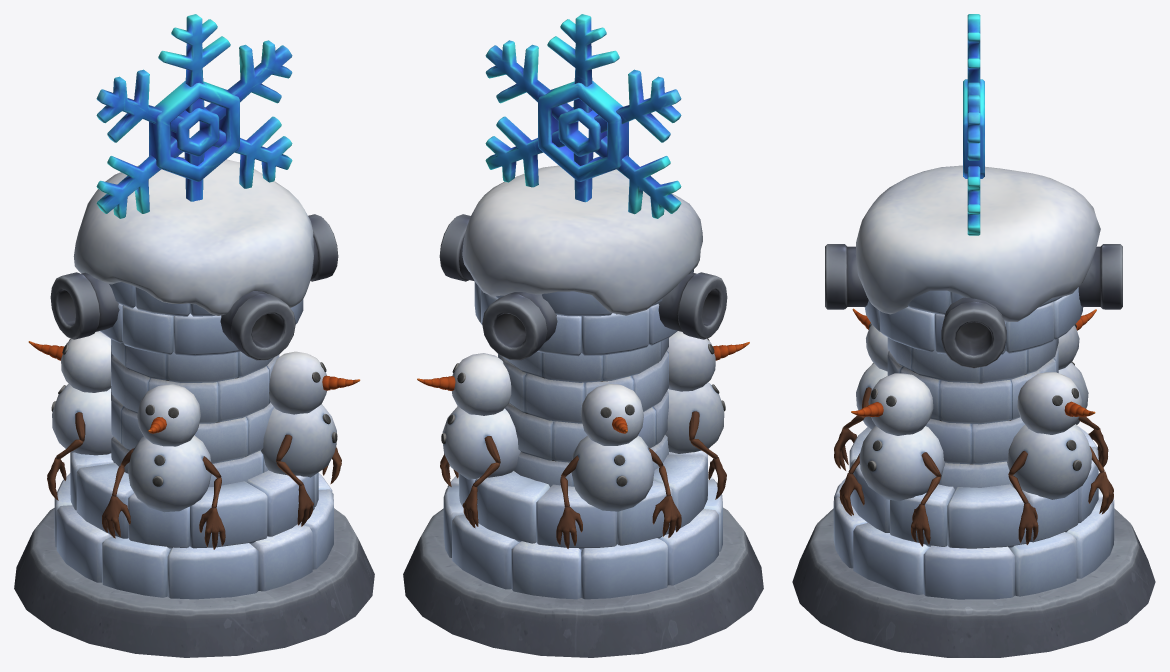
File: SM_TowerDefense_Ice_Lv2.fbx
3 renders of one model, left to right at view 1: azimuth 30°, elevation 25°; view 2: azimuth 150°, elevation 25°; view 3: azimuth 270°, elevation 25°, orthographic.
Visible parts, largest first — view 1: SM_TowerDefense_Ice_Lv2; view 2: SM_TowerDefense_Ice_Lv2; view 3: SM_TowerDefense_Ice_Lv2.
Boxes of the visible parts, bbox=[...] form: SM_TowerDefense_Ice_Lv2: bbox=[14, 14, 374, 657]; SM_TowerDefense_Ice_Lv2: bbox=[403, 14, 763, 657]; SM_TowerDefense_Ice_Lv2: bbox=[792, 14, 1155, 657].
Size of the model in its own units: 857 by 1488 by 865.
